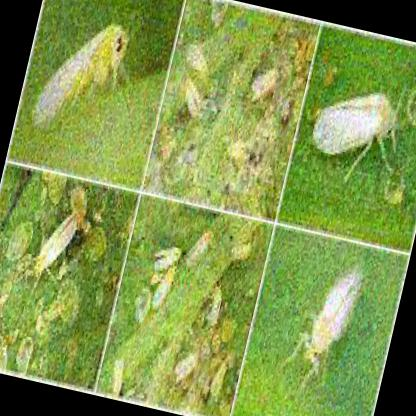whitefly: (36, 23, 128, 129), (310, 95, 396, 152)
